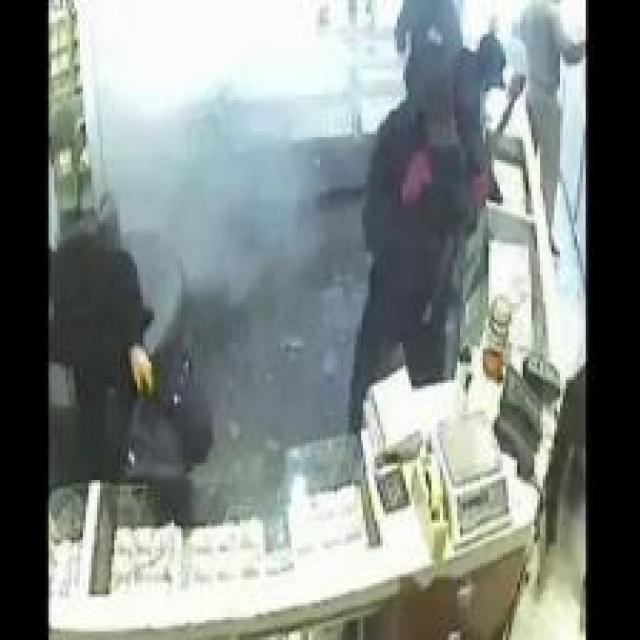fire: (82, 0, 324, 303)
